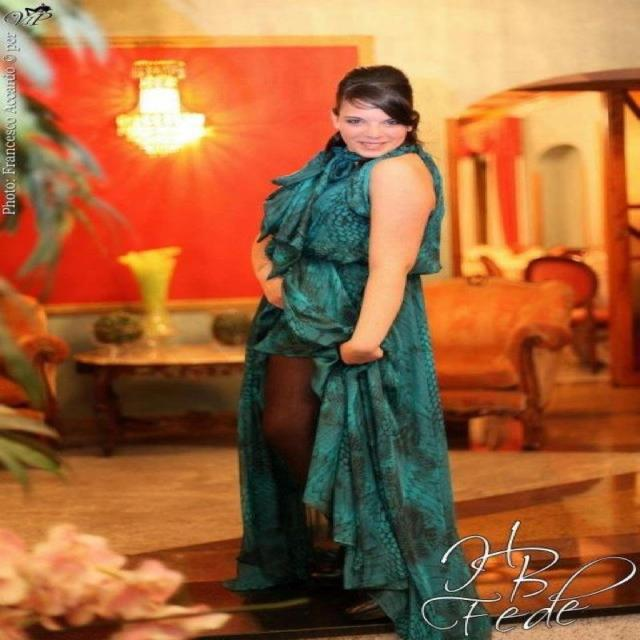Face: (331, 89, 404, 151)
